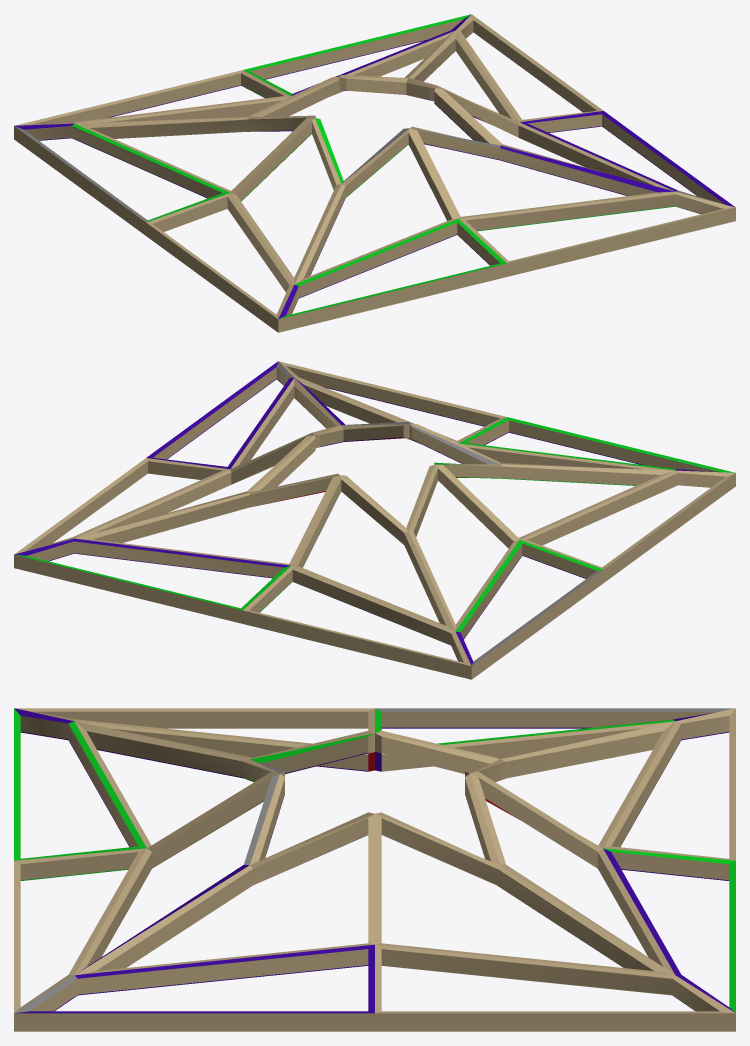
File: BossTempleCrystalHousing.fbx
3 views of the same model, one above another, from view 1: azimuth 30°, elevation 25°; view 2: azimuth 150°, elevation 25°; view 3: azimuth 270°, elevation 25° (orthographic). The views are drawn at different scales.
Visible parts, largest first — view 1: Box001; view 2: Box001; view 3: Box001.
Part boxes in pixels (box(x1,y1,x2,y2)): Box001: box(14, 14, 735, 332); Box001: box(14, 361, 735, 679); Box001: box(14, 708, 735, 1031).
Size of the model in its own units: 4000 by 646 by 4000.
